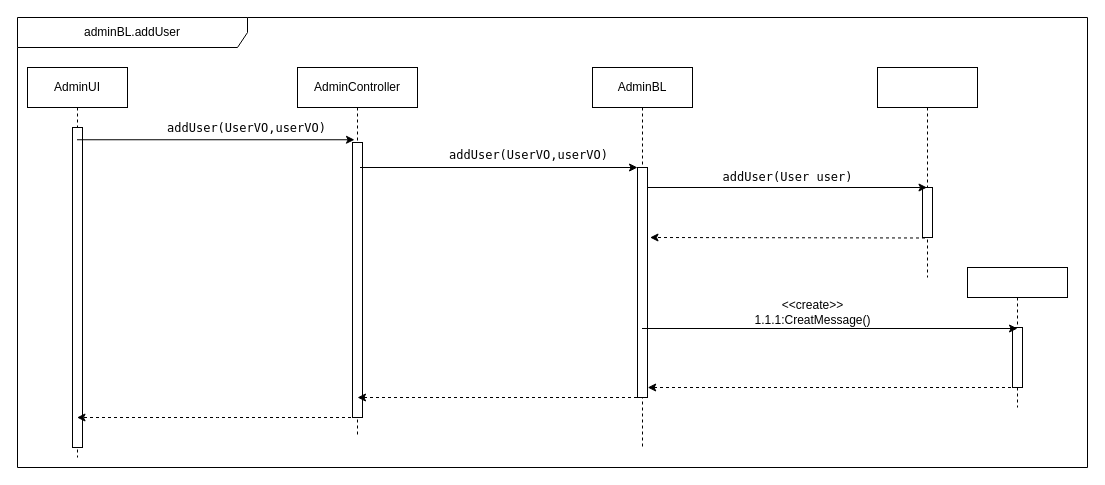
The diagram is 1105 pixels wide and 485 high, and some of its shapes have lost their labels. Each missing label, with the centre of its shape:
AdminMapper: the point at 927,172
ResponseVO: the point at 1017,337
